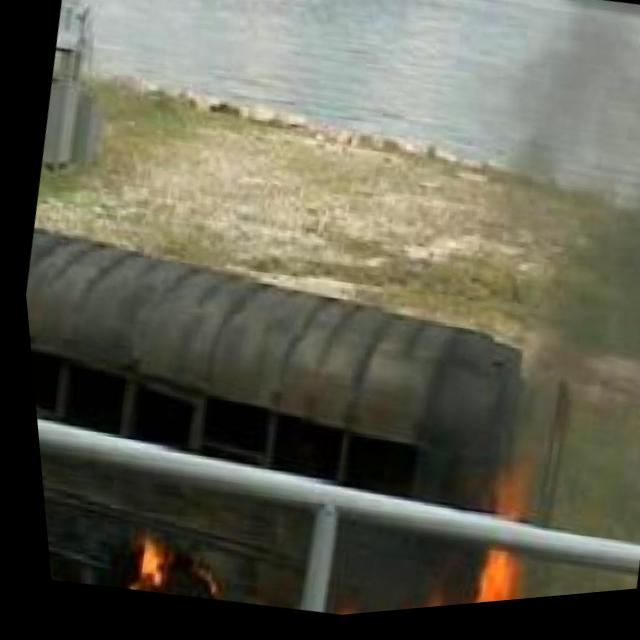Fire: (339, 522, 519, 619), (59, 521, 238, 616)
